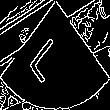L_NE: (34, 26, 76, 84)
